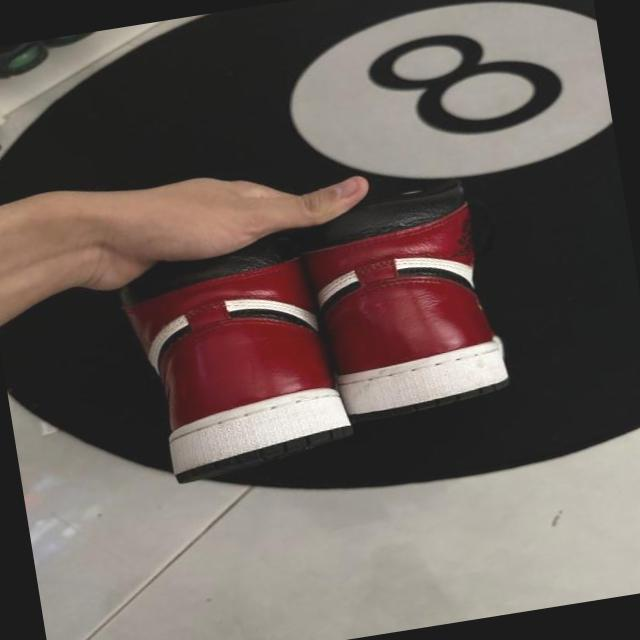nike_original_jordan: (123, 222, 364, 488), (289, 170, 522, 424)
